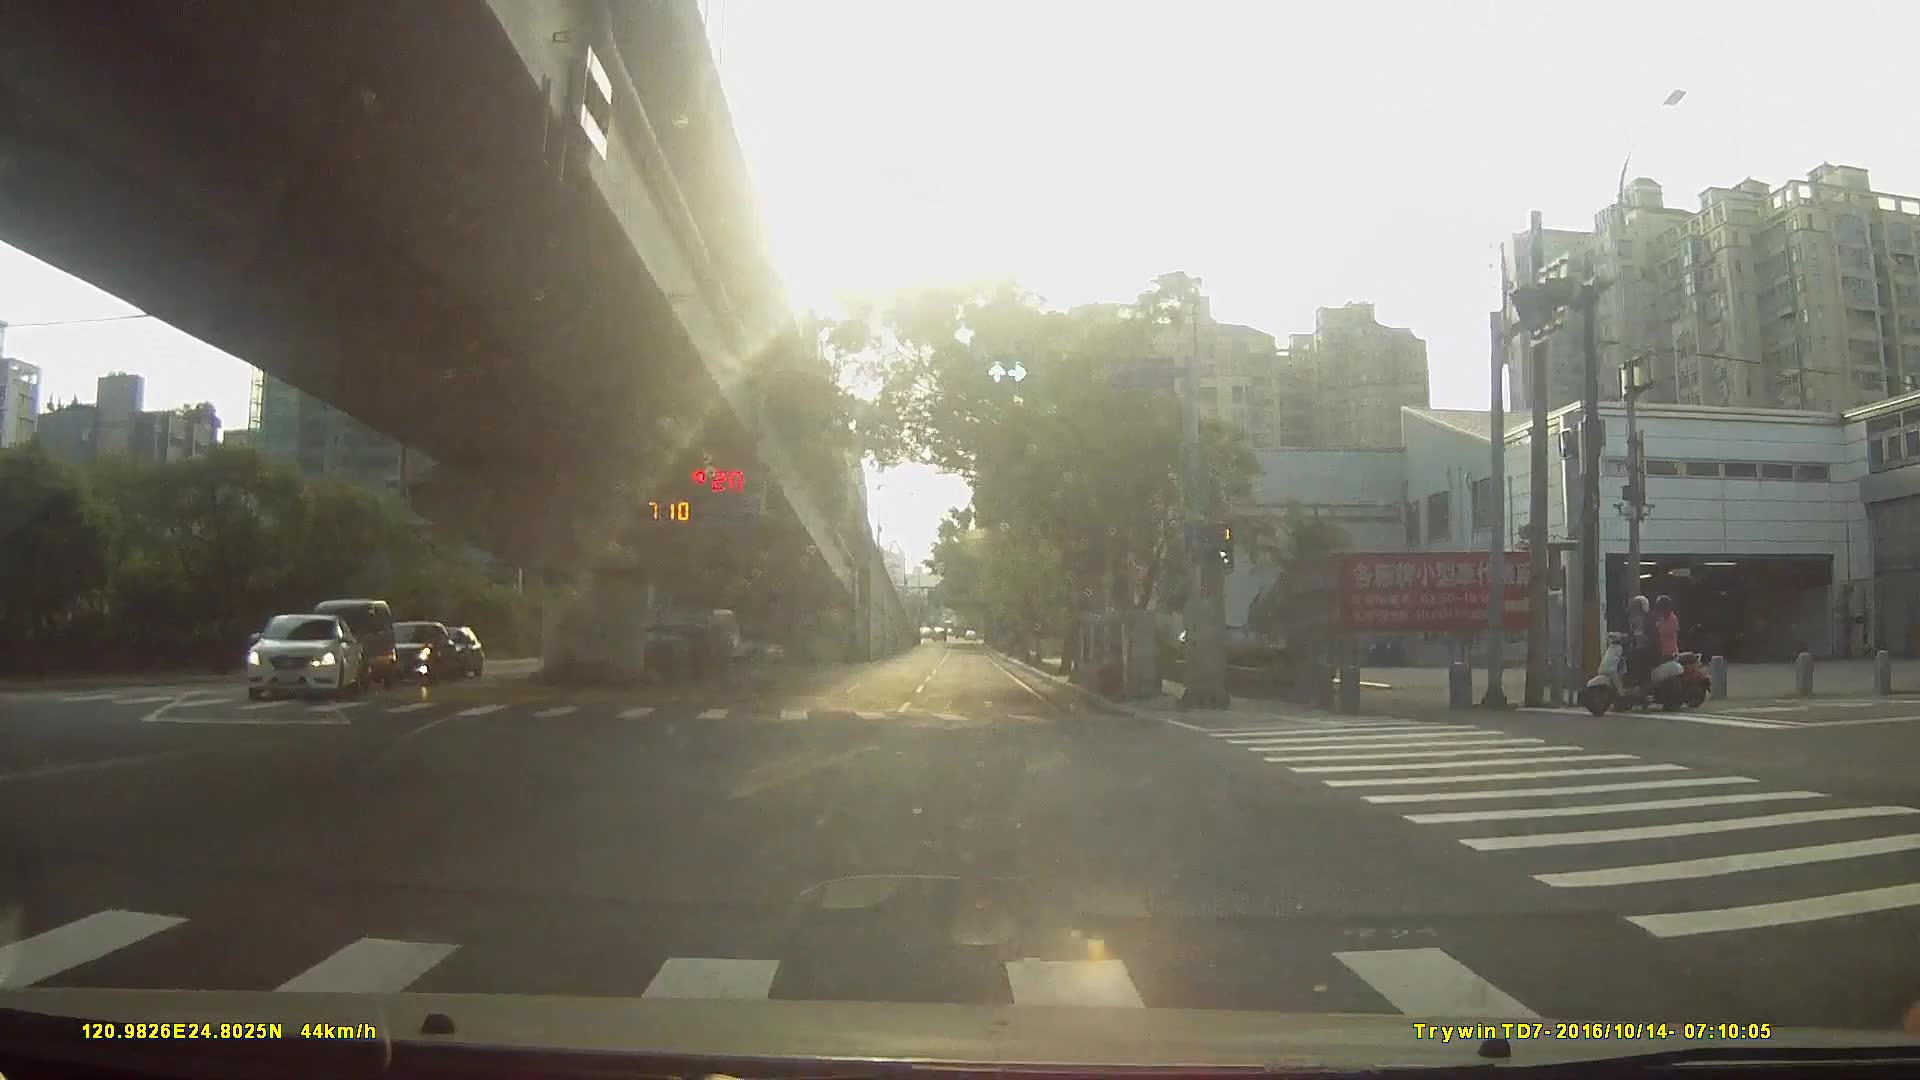rider: (1580, 597, 1694, 715)
vehicle: (234, 613, 356, 701), (300, 600, 387, 694), (608, 622, 736, 684), (368, 620, 457, 684)
